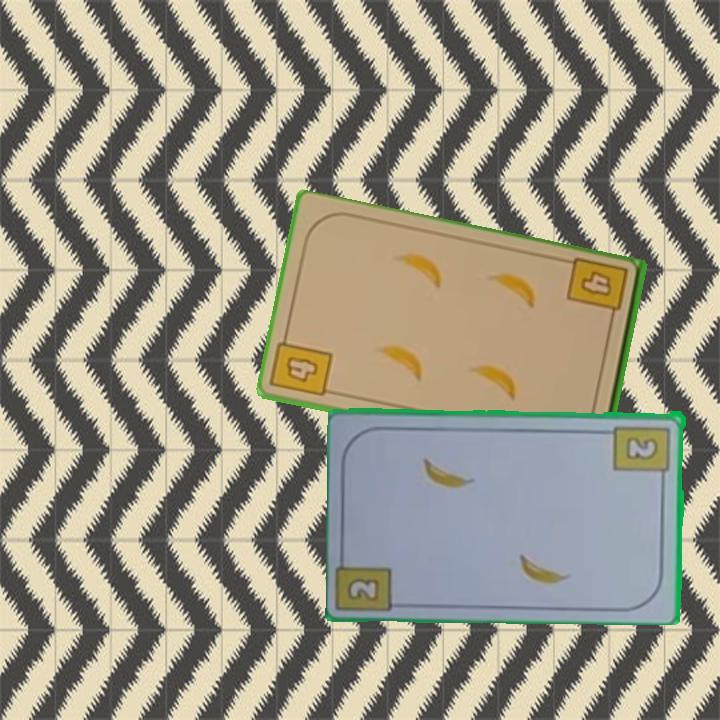2b: (611, 421, 673, 484), (343, 575, 383, 604)
4b: (564, 254, 631, 328), (268, 329, 336, 400)
